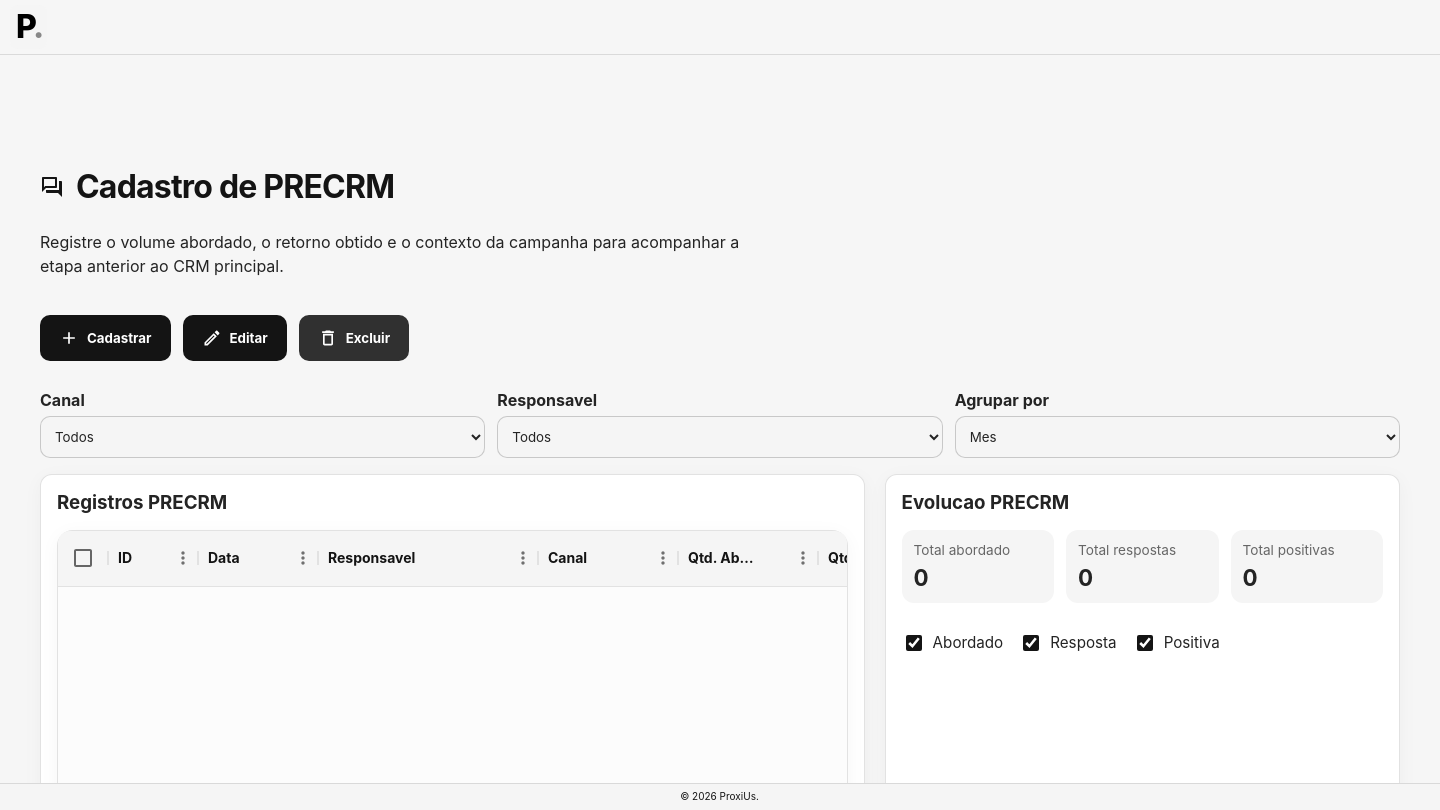
Test: mantém o formulário de cadastro claro em /precrm
The image size is (1440, 810).
Click the button "Cadastrar" at (105,338), box [40,315,170,361]
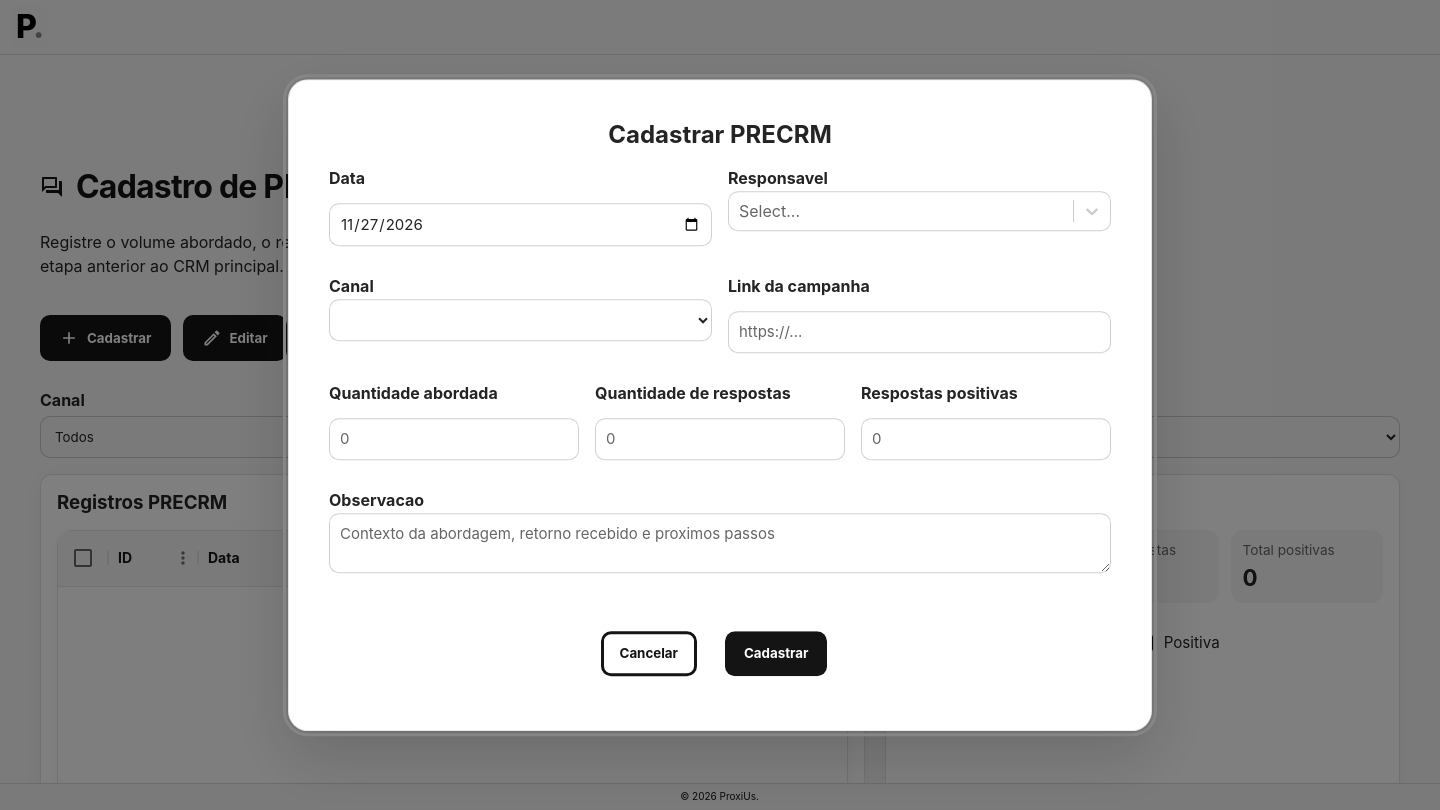
Check: the heading "Cadastrar PRECRM" is shown, box [608,120,832,149]
